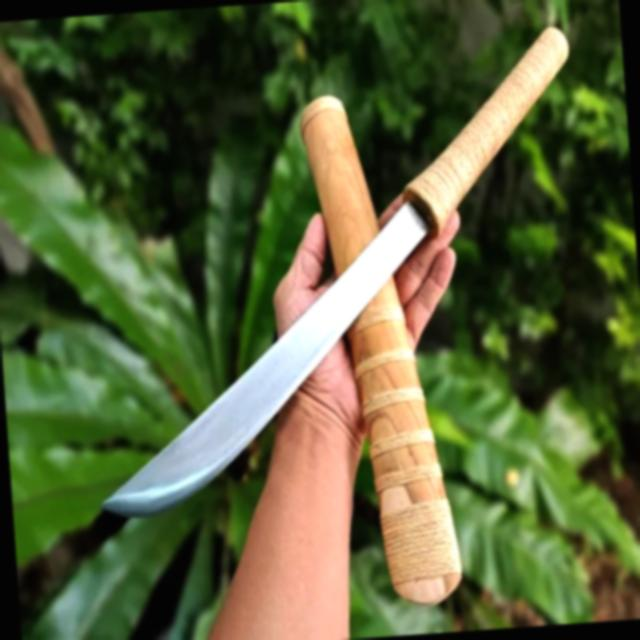short sword: (71, 17, 612, 630)
